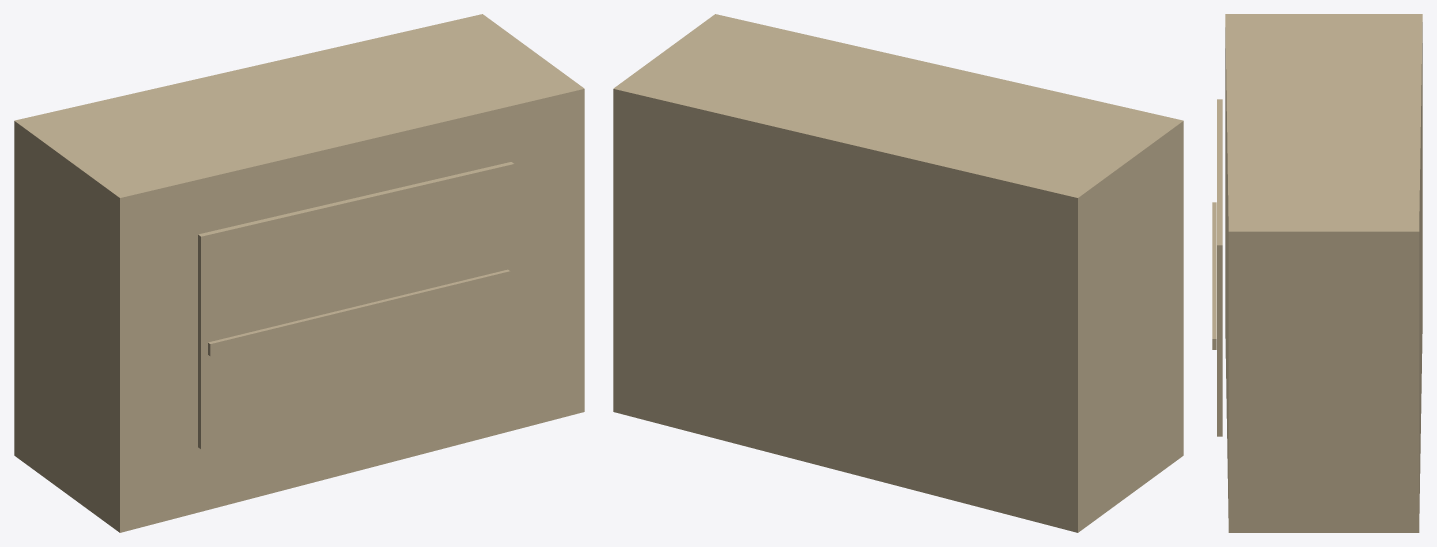
Rendered from ac_unit.glb.
The picture shows the model from 3 angles, left to right: view 1: azimuth 30°, elevation 25°; view 2: azimuth 150°, elevation 25°; view 3: azimuth 270°, elevation 25°; orthographic projection. The views are drawn at different scales.
Parts seen in each view (by area): view 1: WB002V2_SquareACBody.005; view 2: WB002V2_SquareACBody.005; view 3: WB002V2_SquareACBody.005.
Part boxes in pixels (x1,y1,x2,y2): WB002V2_SquareACBody.005: (14,14,584,532); WB002V2_SquareACBody.005: (613,14,1183,532); WB002V2_SquareACBody.005: (1212,14,1422,532).
Bounding box in the file's own units: 1.4 × 0.96 × 0.586.
